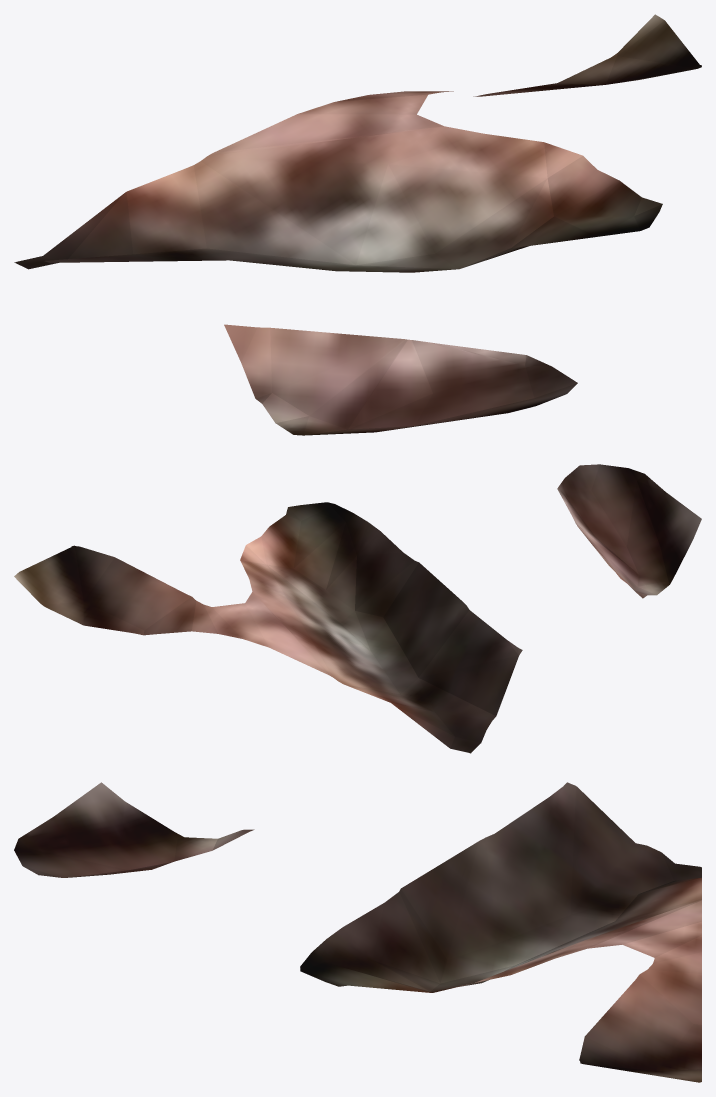
3 renders of one model, top to bottom at view 1: azimuth 30°, elevation 25°; view 2: azimuth 150°, elevation 25°; view 3: azimuth 270°, elevation 25°, orthographic. The views are drawn at different scales.
Bounding box in the file's own units: 0.3674 × 0.0503 × 0.3681.
Materials: 1 (1 with a texture image).
